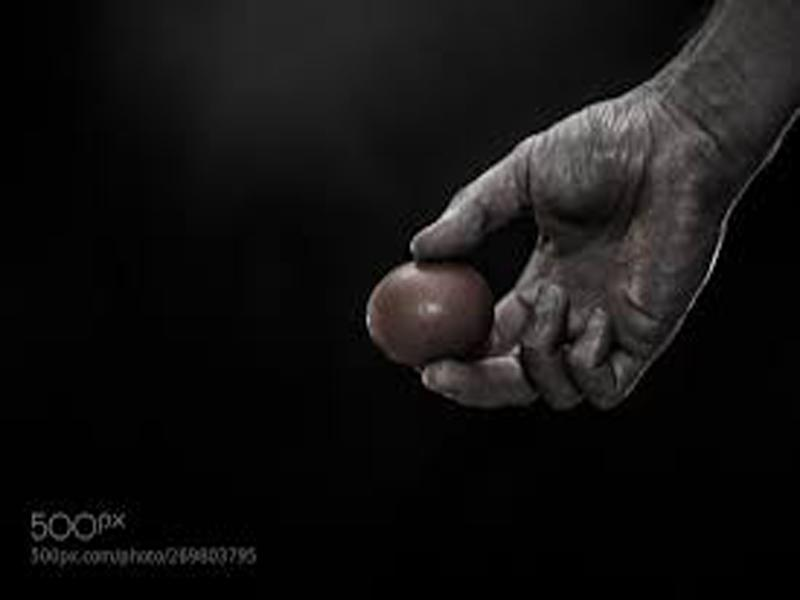Eggs: (367, 256, 497, 364)
